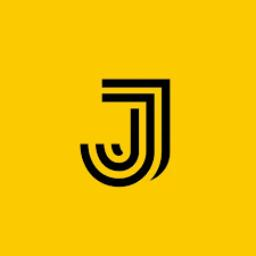j: (71, 70, 187, 200)
